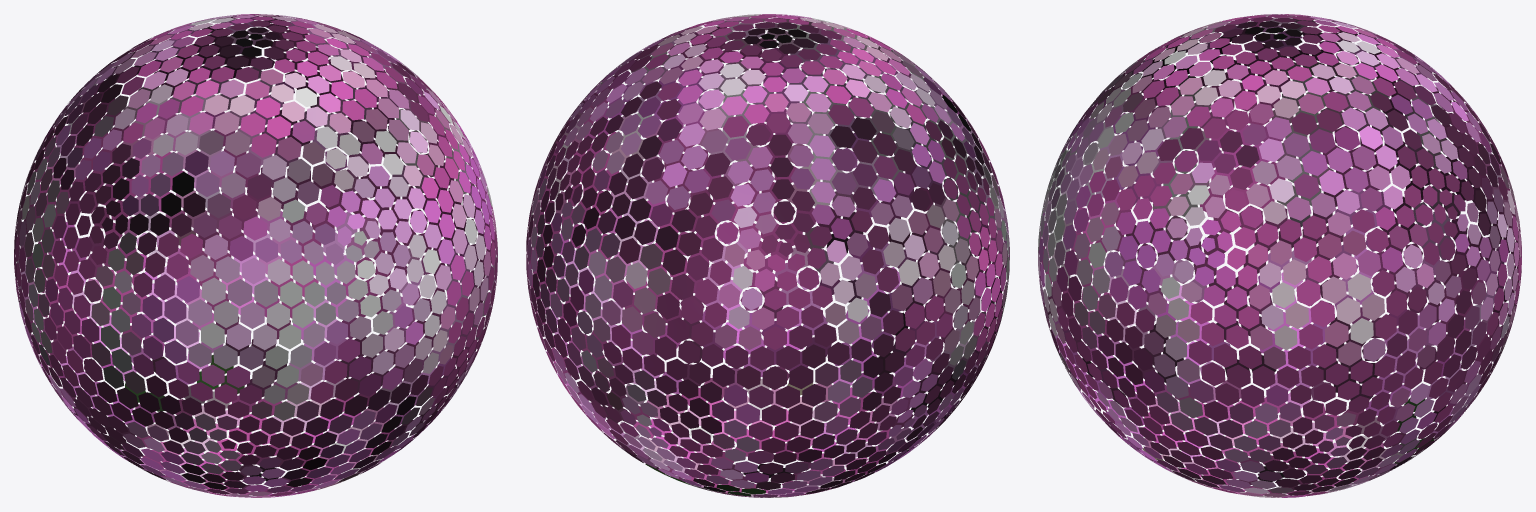
File: magneto.fbx
The picture shows the model from 3 angles, left to right: view 1: azimuth 30°, elevation 25°; view 2: azimuth 150°, elevation 25°; view 3: azimuth 270°, elevation 25°; orthographic projection.
Parts seen in each view (by area): view 1: magneto; view 2: magneto; view 3: magneto.
Boxes of the visible parts, x1=… form: magneto: x1=14, y1=14, x2=497, y2=497; magneto: x1=526, y1=14, x2=1009, y2=497; magneto: x1=1038, y1=14, x2=1521, y2=497.
Bounding box in the file's own units: 218 × 218 × 218.
